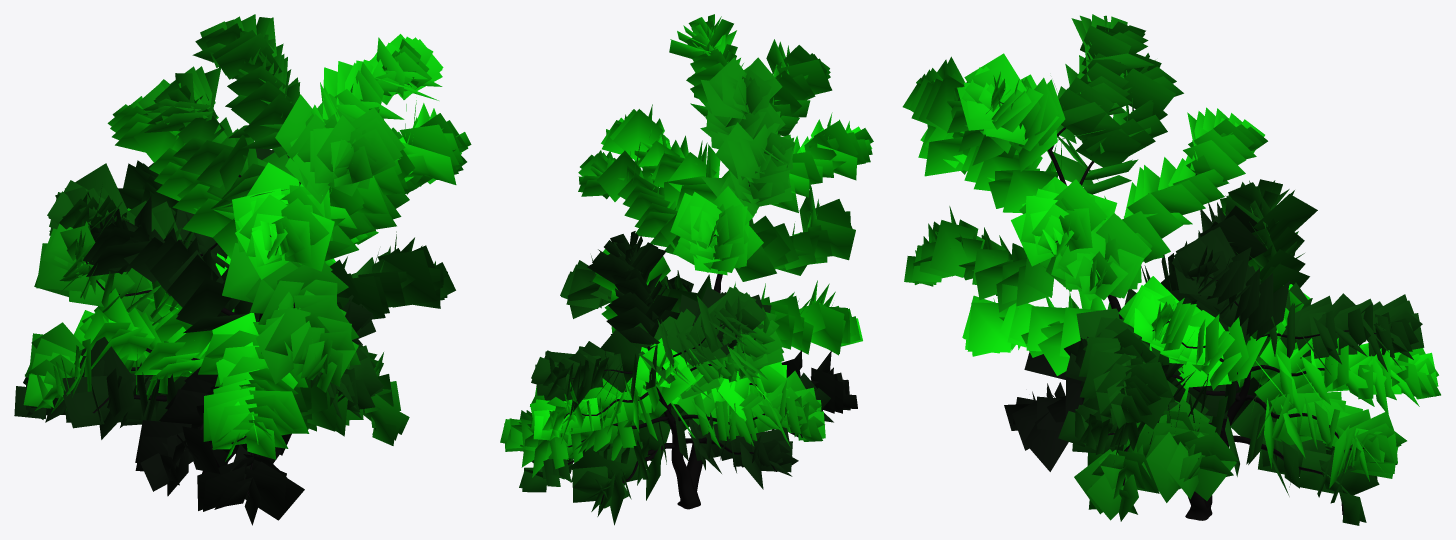
The model's file is Maple_10.fbx.
The picture shows the model from 3 angles, left to right: view 1: azimuth 30°, elevation 25°; view 2: azimuth 150°, elevation 25°; view 3: azimuth 270°, elevation 25°; orthographic projection. The views are drawn at different scales.
Parts seen in each view (by area): view 1: Maple_10; view 2: Maple_10; view 3: Maple_10.
Part boxes in pixels (bbox=[...]): Maple_10: bbox=[14, 14, 471, 525]; Maple_10: bbox=[500, 14, 873, 525]; Maple_10: bbox=[902, 14, 1440, 525].
Bounding box in the file's own units: 396 × 529 × 527.
